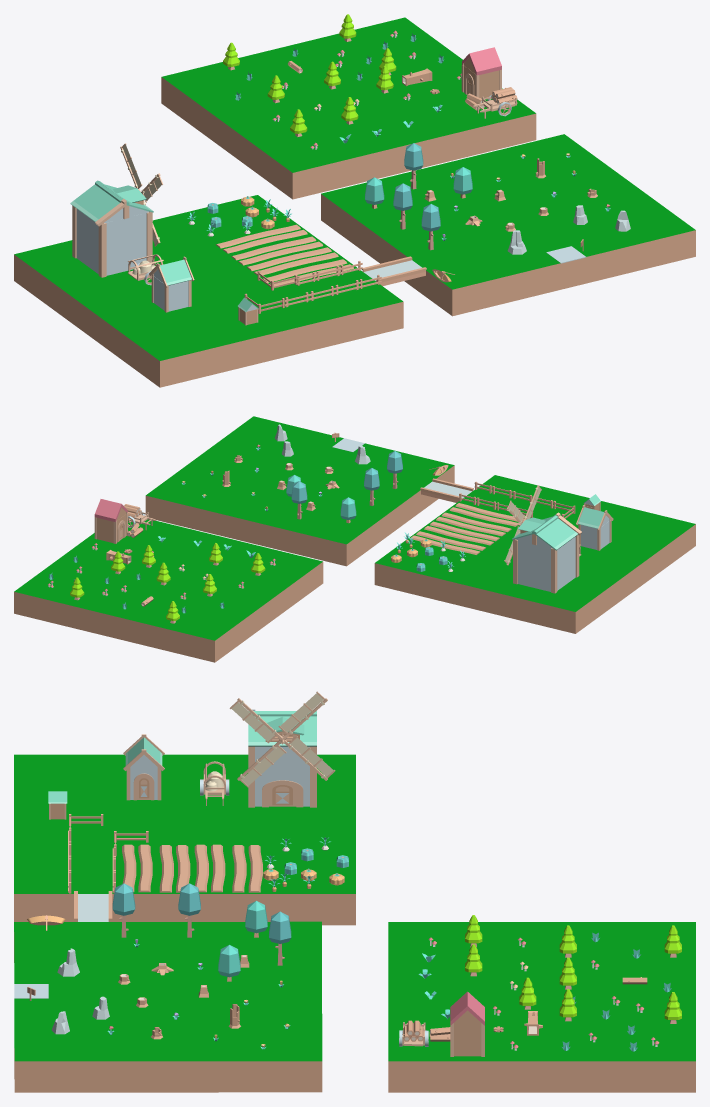
The model's file is Map3.fbx.
3 renders of one model, top to bottom at view 1: azimuth 30°, elevation 25°; view 2: azimuth 150°, elevation 25°; view 3: azimuth 270°, elevation 25°, orthographic. The views are drawn at different scales.
Visible parts, largest first — view 1: wallBlock, roofRight, cliff_block_rock, cliff_block_rock__201_, cliff_block_rock__189_, bridge_center_wood, wallBlock__1_, cliff_block_rock__109_, cliff_block_rock__40_, cliff_block_rock__10_, cliff_block_rock__261_, cliff_block_rock__231_ (+53 smaller); view 2: wallBlock, roofRight, cliff_block_rock__181_, cliff_block_rock__209_, cliff_block_rock__9_, bridge_center_wood, cliff_block_rock__161_, cliff_block_rock__141_, cliff_block_rock__279_, cliff_block_rock__131_, cliff_block_rock__39_, cliff_block_rock__101_ (+55 smaller); view 3: windmill, wallBlock, cliff_block_rock__104_, cliff_block_rock__284_, cliff_block_rock__103_, cliff_block_rock__101_, cliff_block_rock__106_, cliff_block_rock__105_, cliff_block_rock__108_, cliff_block_rock__287_, cliff_block_rock__109_, cliff_block_rock__281_ (+34 smaller).
Boxes of the visible parts, left/top/right/bottom form: wallBlock: left=72, top=205, right=152, bottom=277; roofRight: left=70, top=180, right=126, bottom=226; cliff_block_rock: left=145, top=344, right=185, bottom=387; cliff_block_rock__201_: left=278, top=156, right=317, bottom=199; cliff_block_rock__189_: left=437, top=273, right=477, bottom=316; bridge_center_wood: left=361, top=256, right=426, bottom=286; wallBlock__1_: left=151, top=275, right=191, bottom=312; cliff_block_rock__109_: left=656, top=219, right=695, bottom=262; cliff_block_rock__40_: left=243, top=320, right=283, bottom=363; cliff_block_rock__10_: left=169, top=338, right=209, bottom=381; cliff_block_rock__261_: left=425, top=120, right=464, bottom=163; cliff_block_rock__231_: left=351, top=138, right=390, bottom=181; wallBlock: left=513, top=535, right=579, bottom=593; roofRight: left=534, top=512, right=581, bottom=550; cliff_block_rock__181_: left=325, top=531, right=358, bottom=566; cliff_block_rock__209_: left=194, top=627, right=226, bottom=662; cliff_block_rock__9_: left=554, top=598, right=587, bottom=633; bridge_center_wood: left=420, top=478, right=473, bottom=502; cliff_block_rock__161_: left=266, top=516, right=298, bottom=551; cliff_block_rock__141_: left=226, top=506, right=258, bottom=541; cliff_block_rock__279_: left=33, top=588, right=64, bottom=623; cliff_block_rock__131_: left=205, top=502, right=237, bottom=536; cliff_block_rock__39_: left=494, top=583, right=525, bottom=619; cliff_block_rock__101_: left=145, top=486, right=177, bottom=522; windmill: left=229, top=691, right=335, bottom=787; wallBlock: left=248, top=746, right=316, bottom=807; cliff_block_rock__104_: left=185, top=1046, right=219, bottom=1092; cliff_block_rock__284_: left=490, top=1047, right=525, bottom=1092; cliff_block_rock__103_: left=219, top=1046, right=253, bottom=1092; cliff_block_rock__101_: left=288, top=1046, right=322, bottom=1092; cliff_block_rock__106_: left=117, top=1046, right=151, bottom=1092; cliff_block_rock__105_: left=151, top=1046, right=185, bottom=1092; cliff_block_rock__108_: left=49, top=1046, right=83, bottom=1092; cliff_block_rock__287_: left=593, top=1047, right=627, bottom=1092; cliff_block_rock__109_: left=14, top=1047, right=48, bottom=1092; cliff_block_rock__281_: left=388, top=1047, right=422, bottom=1092.
Size of the model in its own units: 2109 by 476 by 1981.
